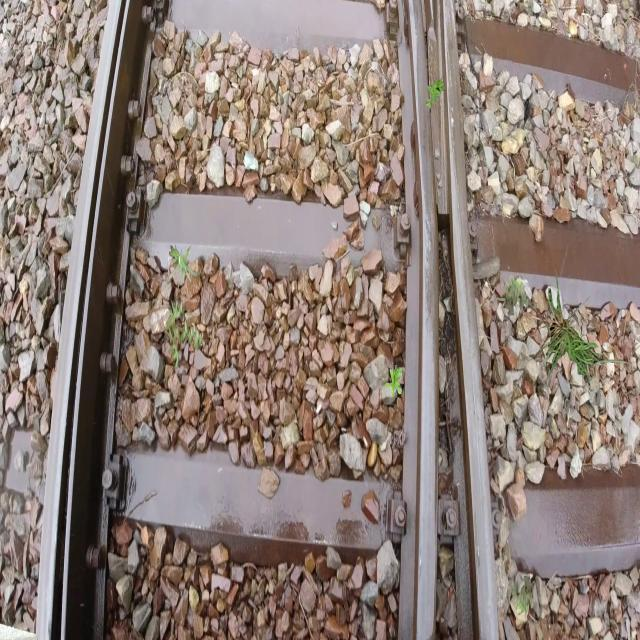Plant: (494, 267, 638, 386), (165, 299, 206, 371), (167, 245, 200, 291), (503, 273, 529, 316), (509, 575, 535, 618), (426, 76, 446, 108), (385, 365, 402, 397)
